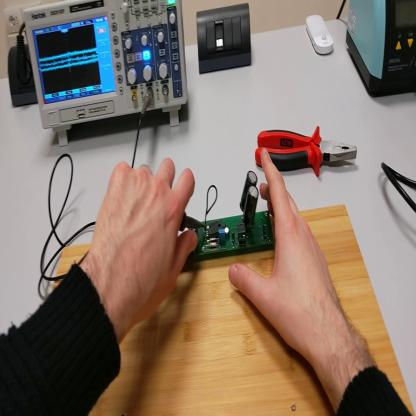hand: (229, 148, 344, 366), (91, 155, 201, 329)
high voltage board: (192, 171, 276, 258)
oscilloscope: (20, 3, 187, 146)
oscilloscope probe tip: (180, 209, 208, 233)
pliers: (257, 130, 355, 178)
socket: (4, 44, 41, 110)
welder station: (348, 2, 416, 96)
working area: (48, 204, 414, 415)
